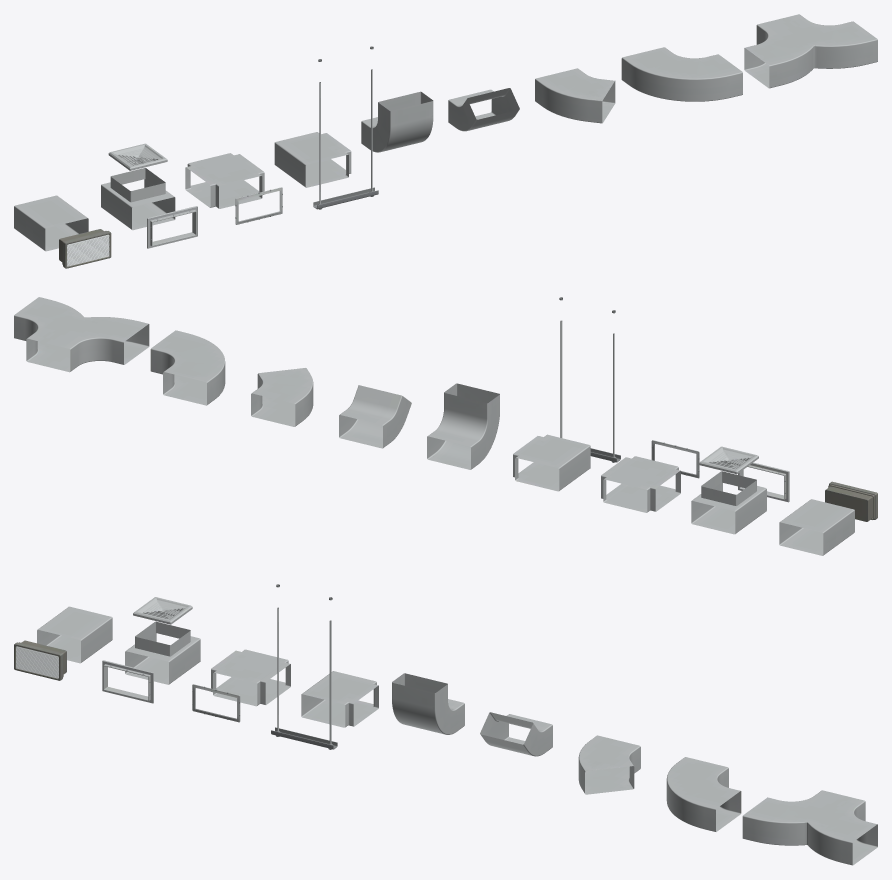
The model's file is free_modular_air_duct_kit.glb.
3 views of the same model, one above another, from view 1: azimuth 30°, elevation 25°; view 2: azimuth 150°, elevation 25°; view 3: azimuth 330°, elevation 25° (orthographic).
Visible parts, largest first — view 1: air_duct_V, air_duct_sideways_90, air_duct_sideaways_45, air_duct_vertical_90, air_duct_X, air_duct_top_connection, air_duct_T, air_duct_I, air_duct_vertical_45, air_duct_side_cap, air_duct_connection_bottom, air_duct_top_cap (+2 smaller); view 2: air_duct_V, air_duct_vertical_90, air_duct_sideways_90, air_duct_top_connection, air_duct_X, air_duct_T, air_duct_vertical_45, air_duct_I, air_duct_sideaways_45, air_duct_side_cap, air_duct_top_cap, air_duct_connection_bottom (+1 smaller); view 3: air_duct_V, air_duct_sideways_90, air_duct_vertical_90, air_duct_X, air_duct_top_connection, air_duct_T, air_duct_sideaways_45, air_duct_I, air_duct_vertical_45, air_duct_side_cap, air_duct_connection_bottom, air_duct_top_cap (+1 smaller).
Part boxes in pixels (x1,y1,x2,y2): air_duct_V: (744,14,877,88); air_duct_sideways_90: (621,47,742,101); air_duct_sideaways_45: (535,68,615,123); air_duct_vertical_90: (361,91,433,152); air_duct_X: (185,153,264,208); air_duct_top_connection: (101,168,175,230); air_duct_T: (274,132,351,187); air_duct_I: (14,195,88,251); air_duct_vertical_45: (448,88,519,131); air_duct_side_cap: (59,229,111,268); air_duct_connection_bottom: (313,69,378,209); air_duct_top_cap: (108,143,167,170); air_duct_V: (14,297,149,372); air_duct_vertical_90: (427,383,499,469); air_duct_sideways_90: (150,330,225,405); air_duct_top_connection: (691,471,766,534); air_duct_X: (601,456,680,512); air_duct_T: (513,434,590,491); air_duct_vertical_45: (339,385,411,448); air_duct_I: (779,499,854,555); air_duct_sideaways_45: (251,368,313,426); air_duct_side_cap: (825,481,877,521); air_duct_top_cap: (699,446,758,474); air_duct_connection_bottom: (560,320,620,462); air_duct_V: (742,790,877,865); air_duct_sideways_90: (666,757,741,831); air_duct_vertical_90: (392,673,464,734); air_duct_X: (211,649,290,706); air_duct_top_connection: (125,621,200,684); air_duct_T: (301,671,378,727); air_duct_sideaways_45: (578,735,640,794); air_duct_I: (37,606,112,663); air_duct_vertical_45: (480,712,552,756); air_duct_side_cap: (14,640,66,680); air_duct_connection_bottom: (271,607,337,749); air_duct_top_cap: (133,597,192,624).
Size of the model in its own units: 44.67 by 7.76 by 4.98.
1 material, 1 textured.
